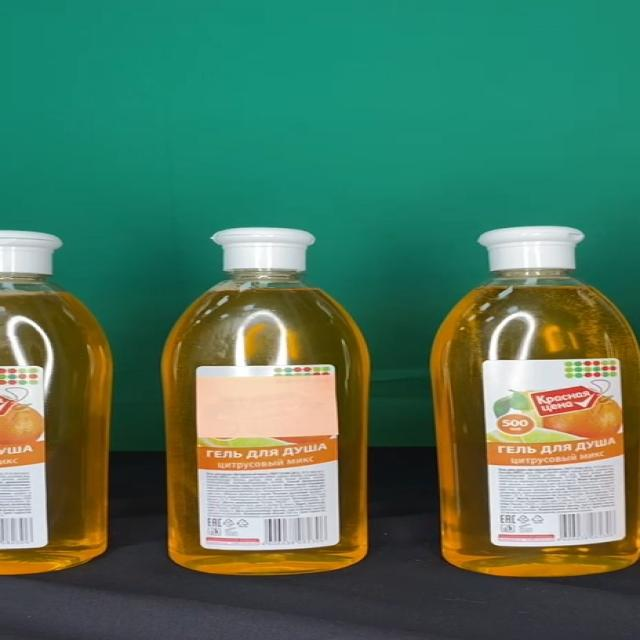Bottle: (430, 227, 640, 576), (163, 227, 369, 575)
Cap: (478, 227, 584, 272), (210, 228, 316, 271)
